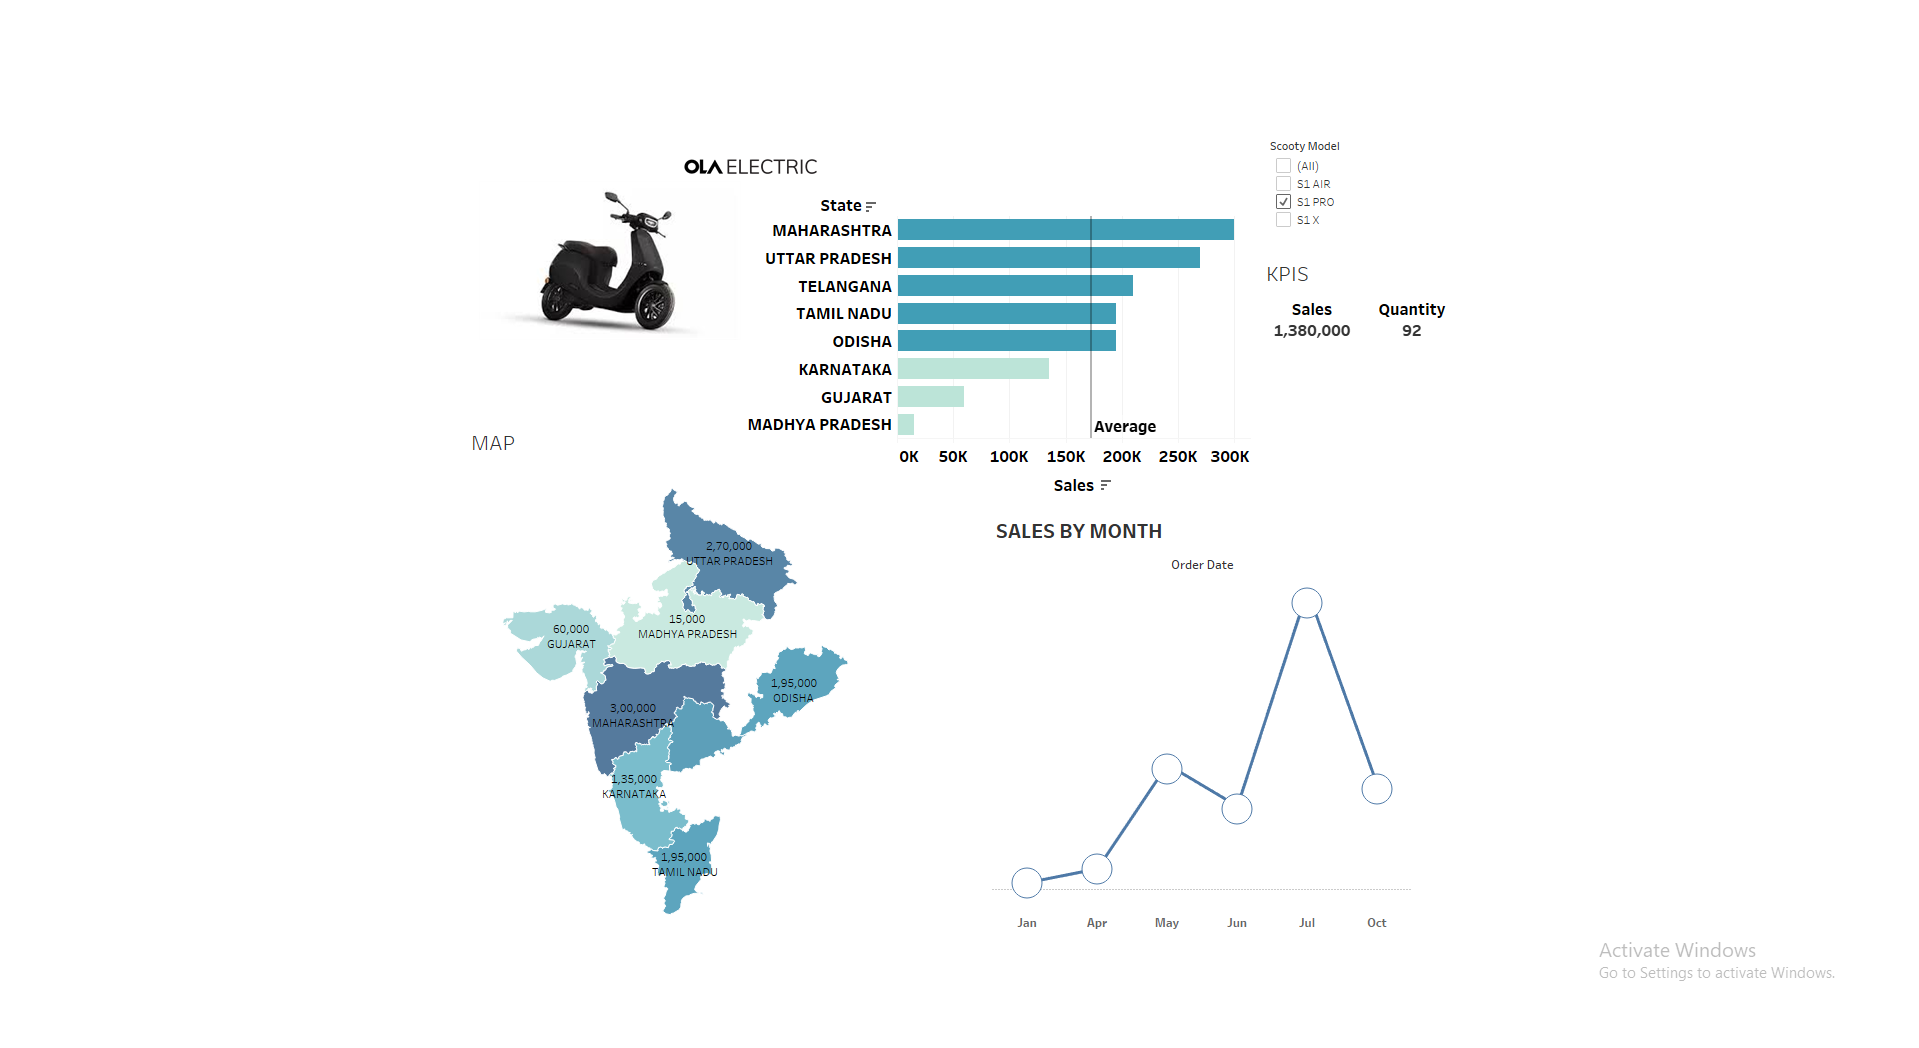

Layout of this report page (visuals, bound fields, positions):
{"tool":"tableau","page":{"name":"s1 pro","canvas":[1000,800],"ordinal":8},"visuals":[{"type":"image","param":"C:/Users/vivek/Downloads/_1223_63dbfb73b7ed4f3efdf76a7d_yq4PqPLfwDuMjZJ4fP8AAM3C","box":[187,7,280,69]},{"type":"filter","title":"MAP","param":"[federated.1mmcmp41y9jbkz169drmq1uvdi5i].[none:SCOOTY MODEL:nk]","box":[810,13,168,108]},{"type":"image","param":"C:/Users/vivek/Downloads/images.jpeg","box":[19,56,262,454]},{"type":"worksheet","title":"Sheet 6","mark":"Automatic","rows":["STATE"],"cols":["SALES"],"box":[277,56,514,322]},{"type":"worksheet","title":"KPIS","mark":"Automatic","box":[802,130,200,138]},{"type":"image","param":"C:/Users/vivek/OneDrive/Pictures/Screenshots/Screenshot 2025-02-09 200106.png","box":[56,226,188,36]}]}

Visuals, with their boxes on the page's 1000x800 design canvas (x1, y1, x2, y2). These are canvas units, not pixel positions in the 1919x1048 screenshot, which may show the page scaled, cropped or inside an application window:
image: (187,7,467,76)
"MAP" filter: (810,13,978,121)
image: (19,56,281,510)
"Sheet 6" worksheet: (277,56,791,378)
"KPIS" worksheet: (802,130,1002,268)
image: (56,226,244,262)
